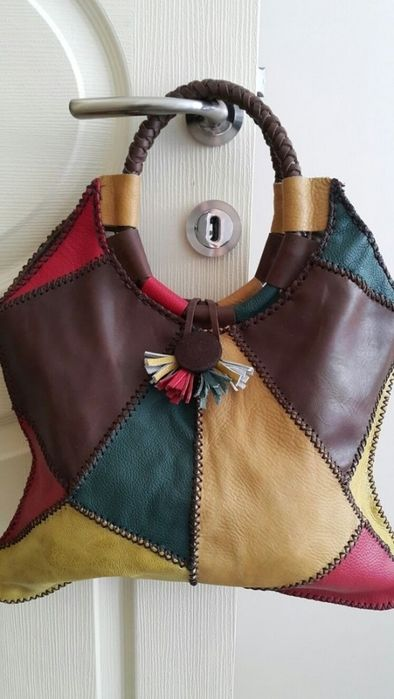cuero: (1, 79, 394, 605)
